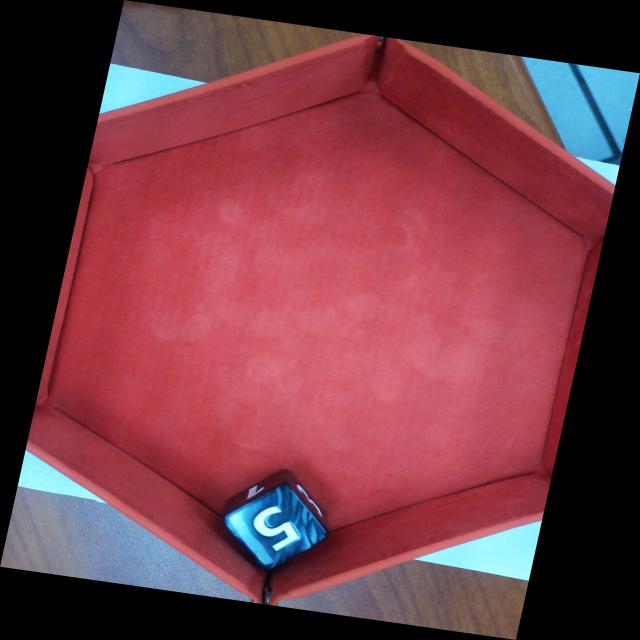dice: (218, 481, 334, 578)
